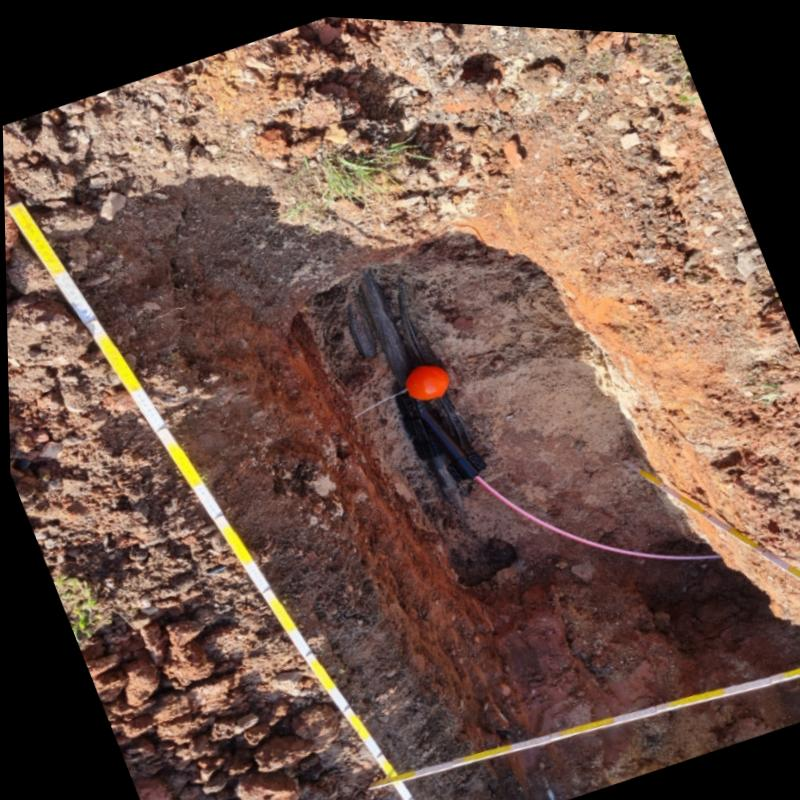Kugelmarker: (402, 358, 448, 397)
